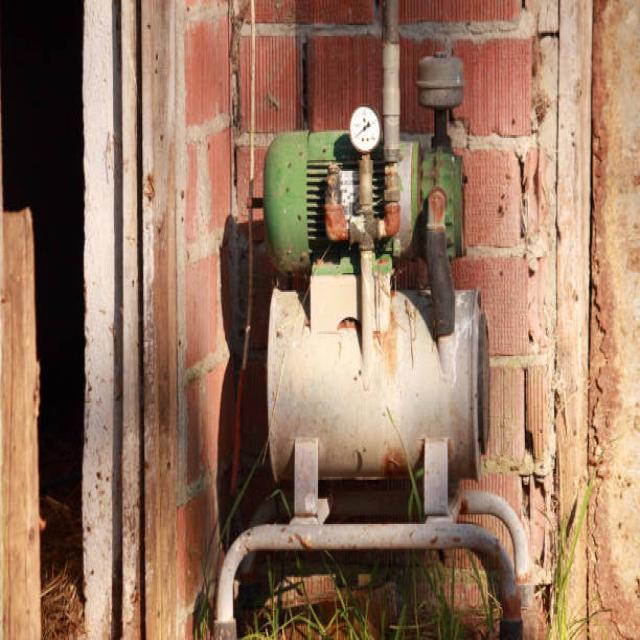compressor: (216, 19, 533, 640)
corrosion detected: (320, 156, 404, 250), (373, 324, 419, 391), (354, 442, 420, 484)
